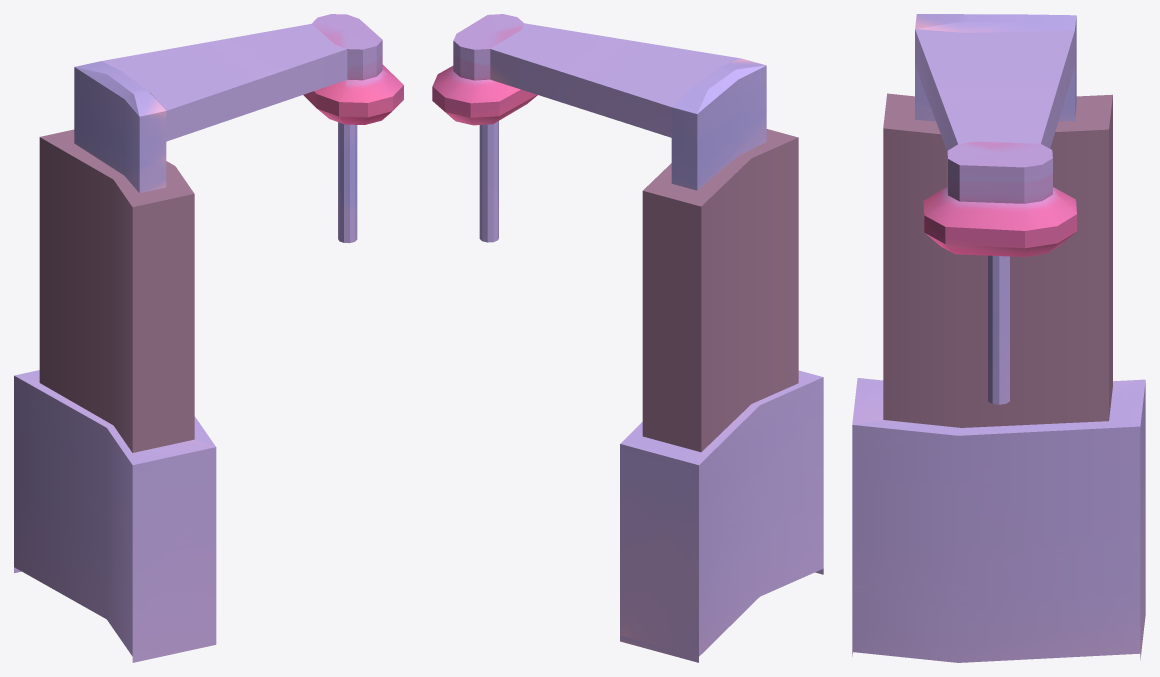
The model's file is pasta_token_yer.fbx.
3 renders of one model, left to right at view 1: azimuth 30°, elevation 25°; view 2: azimuth 150°, elevation 25°; view 3: azimuth 270°, elevation 25°, orthographic. The views are drawn at different scales.
Visible parts, largest first — view 1: Cylinder.003; view 2: Cylinder.003; view 3: Cylinder.003.
Part boxes in pixels (x1,y1,x2,y2): Cylinder.003: (14,14,403,662); Cylinder.003: (432,14,823,662); Cylinder.003: (852,14,1145,662).
Size of the model in its own units: 282 by 449 by 191.
